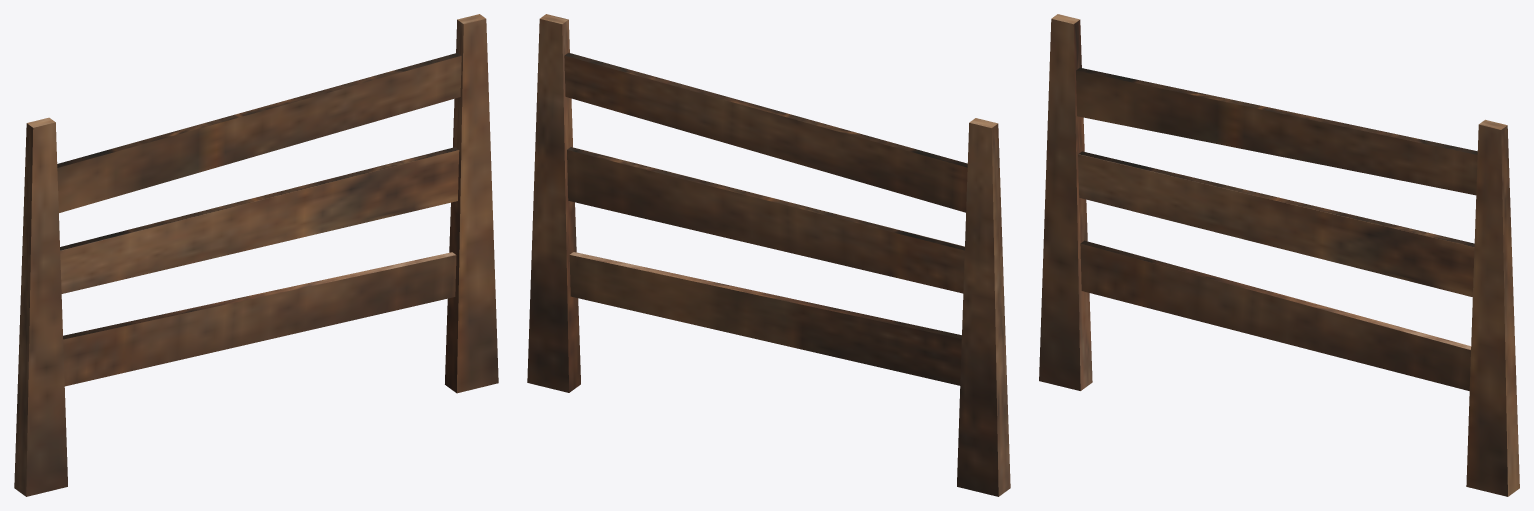
File: Fence.dae
3 renders of one model, left to right at view 1: azimuth 30°, elevation 25°; view 2: azimuth 150°, elevation 25°; view 3: azimuth 330°, elevation 25°, orthographic.
Parts seen in each view (by area): view 1: Cube.001; view 2: Cube.001; view 3: Cube.001.
Boxes of the visible parts, x1=… form: Cube.001: x1=14, y1=14, x2=498, y2=496; Cube.001: x1=527, y1=14, x2=1010, y2=496; Cube.001: x1=1039, y1=14, x2=1519, y2=496.
Size of the model in its own units: 8.88 by 0.4005 by 6.58.
